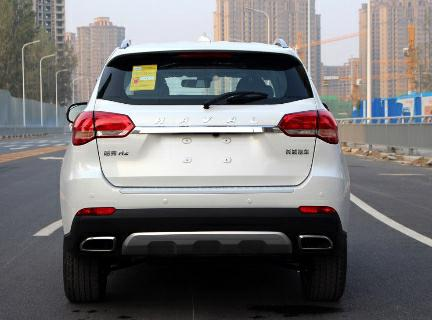哈弗-H2: (54, 39, 354, 308)
